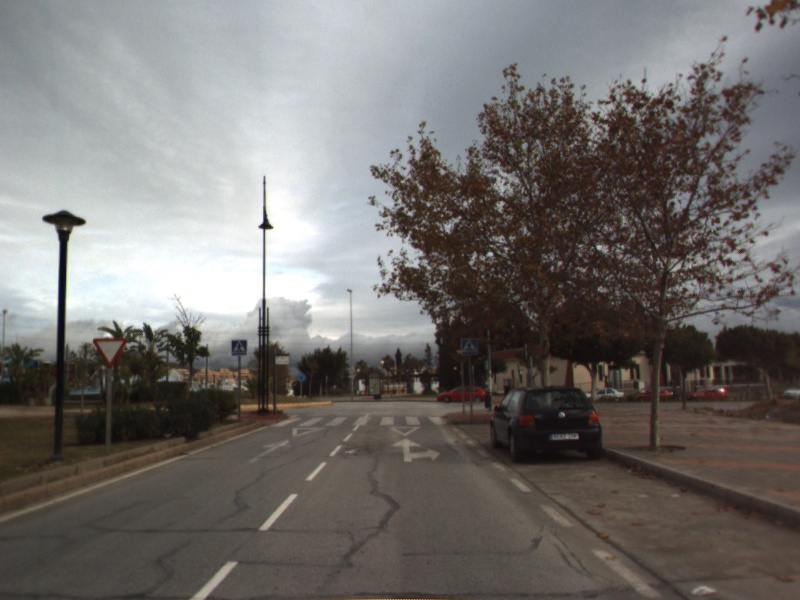STRAIGHT: (245, 437, 294, 466)
STRAIGHT_RIGHT: (389, 436, 443, 464)
